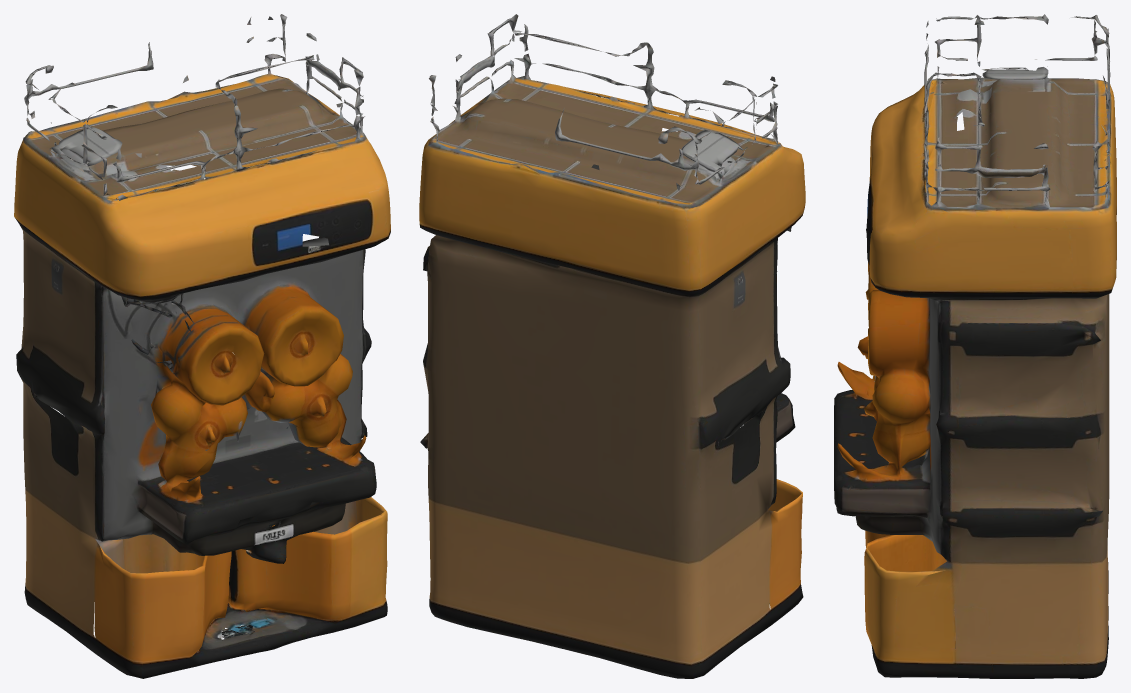
The model's file is juicer.glb.
The picture shows the model from 3 angles, left to right: view 1: azimuth 30°, elevation 25°; view 2: azimuth 150°, elevation 25°; view 3: azimuth 270°, elevation 25°; orthographic projection. The views are drawn at different scales.
Parts seen in each view (by area): view 1: tripo_node_c5ddd62d; view 2: tripo_node_c5ddd62d; view 3: tripo_node_c5ddd62d.
Boxes of the visible parts, bbox=[...] form: tripo_node_c5ddd62d: bbox=[14, 14, 390, 678]; tripo_node_c5ddd62d: bbox=[419, 14, 805, 678]; tripo_node_c5ddd62d: bbox=[834, 14, 1116, 678].
Size of the model in its own units: 0.9342 by 1.7 by 0.8005.
Materials: 1 (1 with a texture image).
